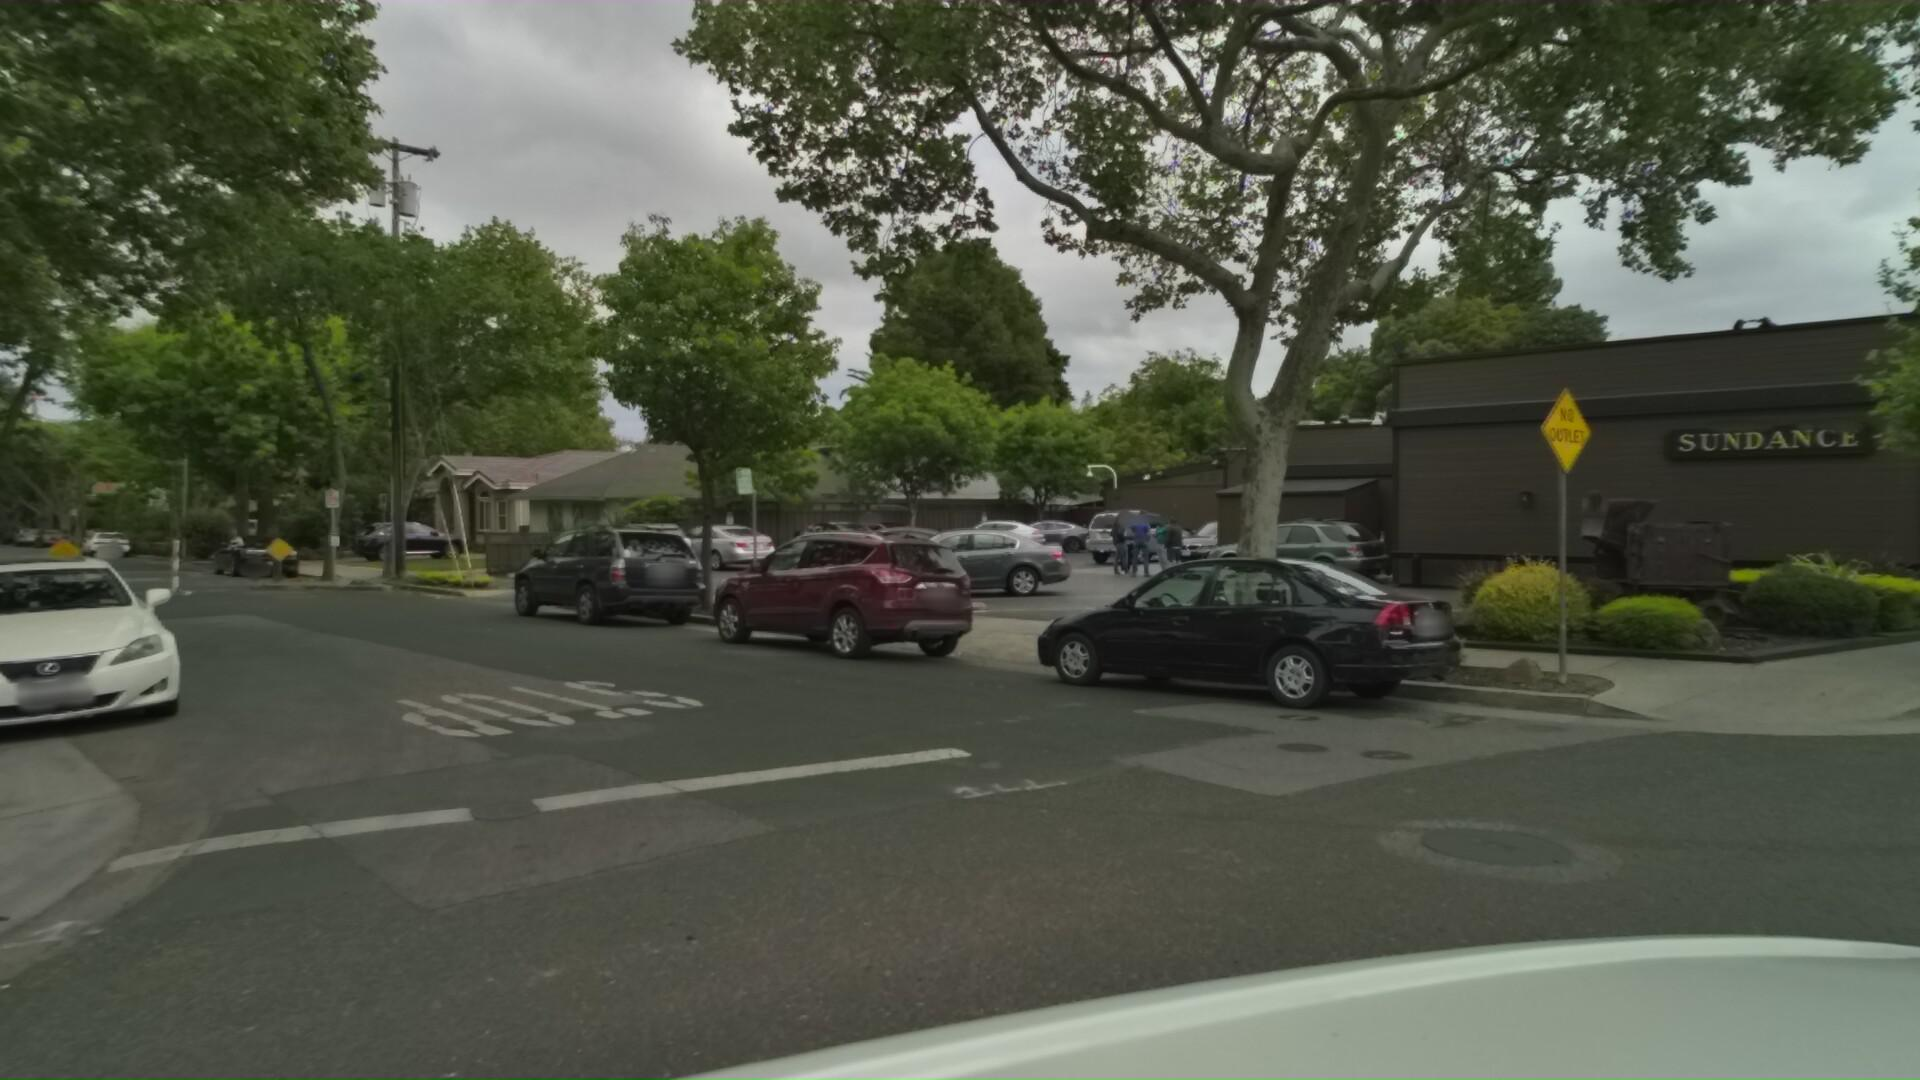car: (1055, 537, 1524, 742), (0, 541, 293, 775), (728, 520, 1038, 676), (530, 516, 756, 636), (858, 520, 1105, 597), (798, 514, 1021, 591), (604, 516, 723, 574), (676, 516, 796, 570), (360, 513, 484, 558), (225, 527, 324, 579), (94, 522, 149, 556)
